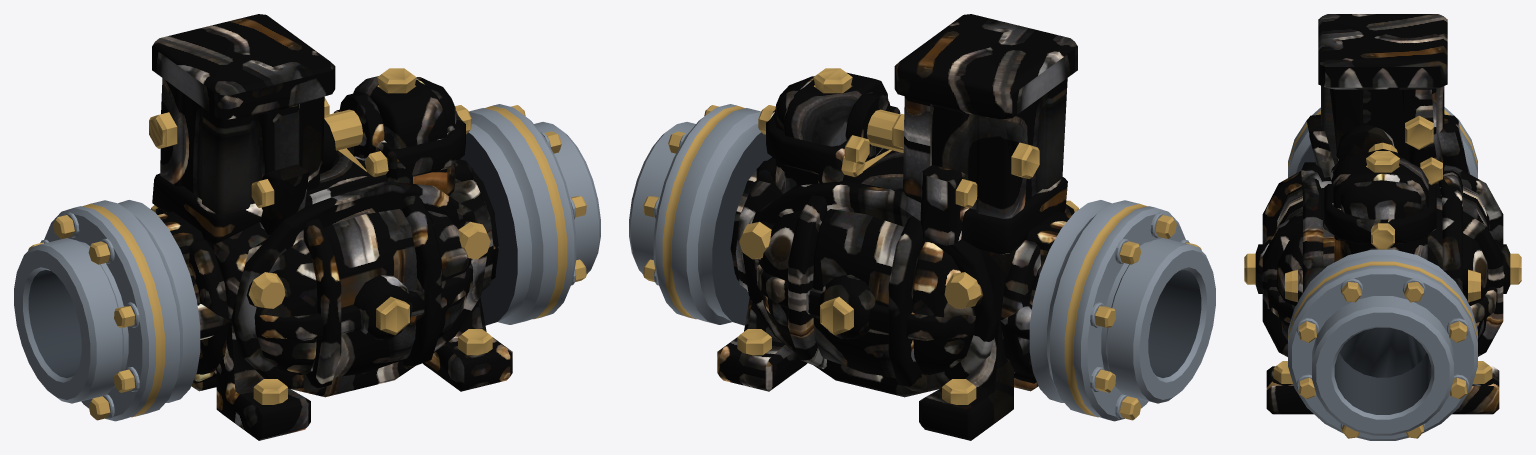
File: Pump_shape_cleanup.fbx
3 views of the same model, side by side, from view 1: azimuth 30°, elevation 25°; view 2: azimuth 150°, elevation 25°; view 3: azimuth 270°, elevation 25° (orthographic). The views are drawn at different scales.
Visible parts, largest first — view 1: tripo_convert_23e97eb0_8bde_402a_bfff_ac4c4e33ca50; view 2: tripo_convert_23e97eb0_8bde_402a_bfff_ac4c4e33ca50; view 3: tripo_convert_23e97eb0_8bde_402a_bfff_ac4c4e33ca50.
Part boxes in pixels (x1,y1,x2,y2): tripo_convert_23e97eb0_8bde_402a_bfff_ac4c4e33ca50: (14, 14, 600, 440); tripo_convert_23e97eb0_8bde_402a_bfff_ac4c4e33ca50: (629, 14, 1215, 440); tripo_convert_23e97eb0_8bde_402a_bfff_ac4c4e33ca50: (1244, 14, 1521, 440).
Size of the model in its own units: 0.998 by 0.6201 by 0.5352.
